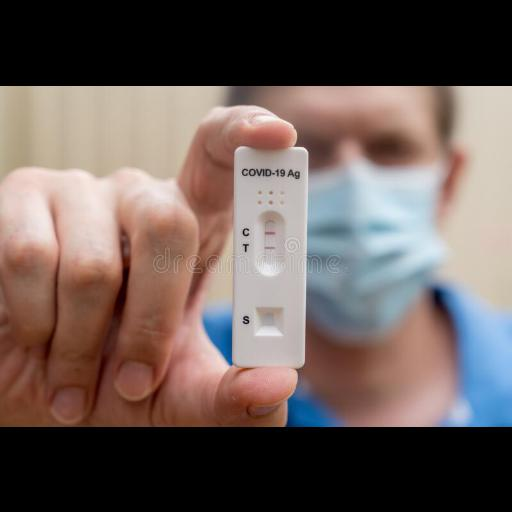Pos: (235, 146, 303, 366)
